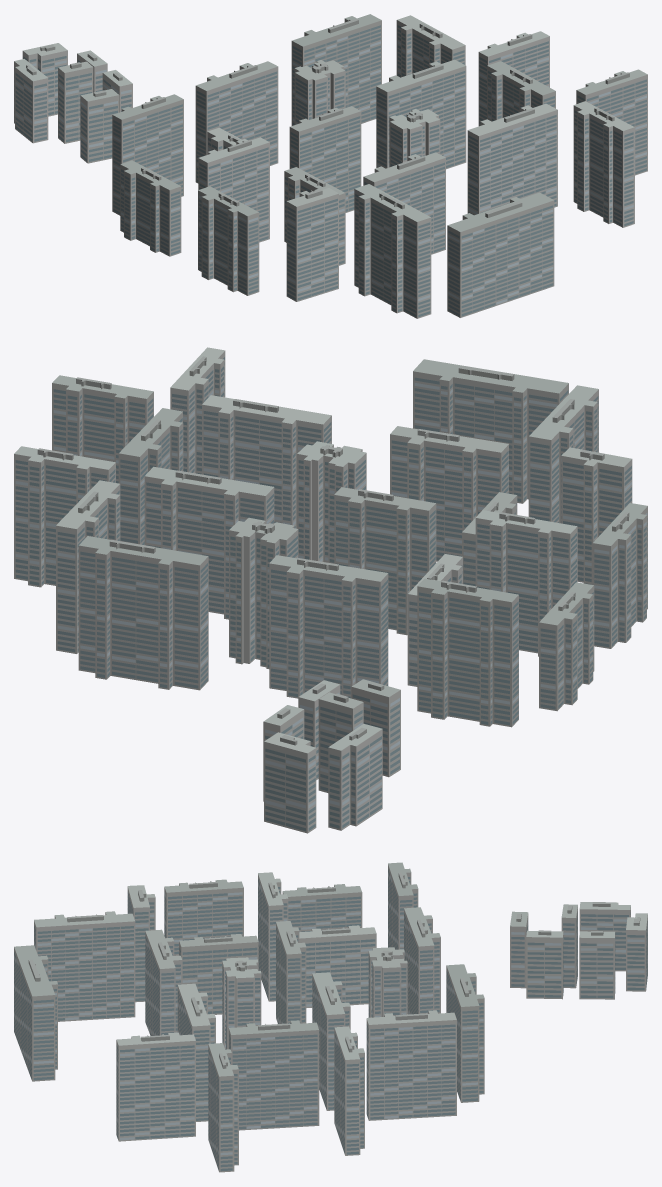
Rendered from apt-a13204510.glb.
3 views of the same model, one above another, from view 1: azimuth 30°, elevation 25°; view 2: azimuth 150°, elevation 25°; view 3: azimuth 270°, elevation 25° (orthographic). The views are drawn at different scales.
Visible parts, largest first — view 1: apt-a13204510; view 2: apt-a13204510; view 3: apt-a13204510.
Part boxes in pixels (left/top/right/bottom): apt-a13204510: left=14, top=14, right=647, bottom=318; apt-a13204510: left=14, top=347, right=647, bottom=833; apt-a13204510: left=14, top=862, right=647, bottom=1172.
Bounding box in the file's own units: 312 × 66 × 375.
